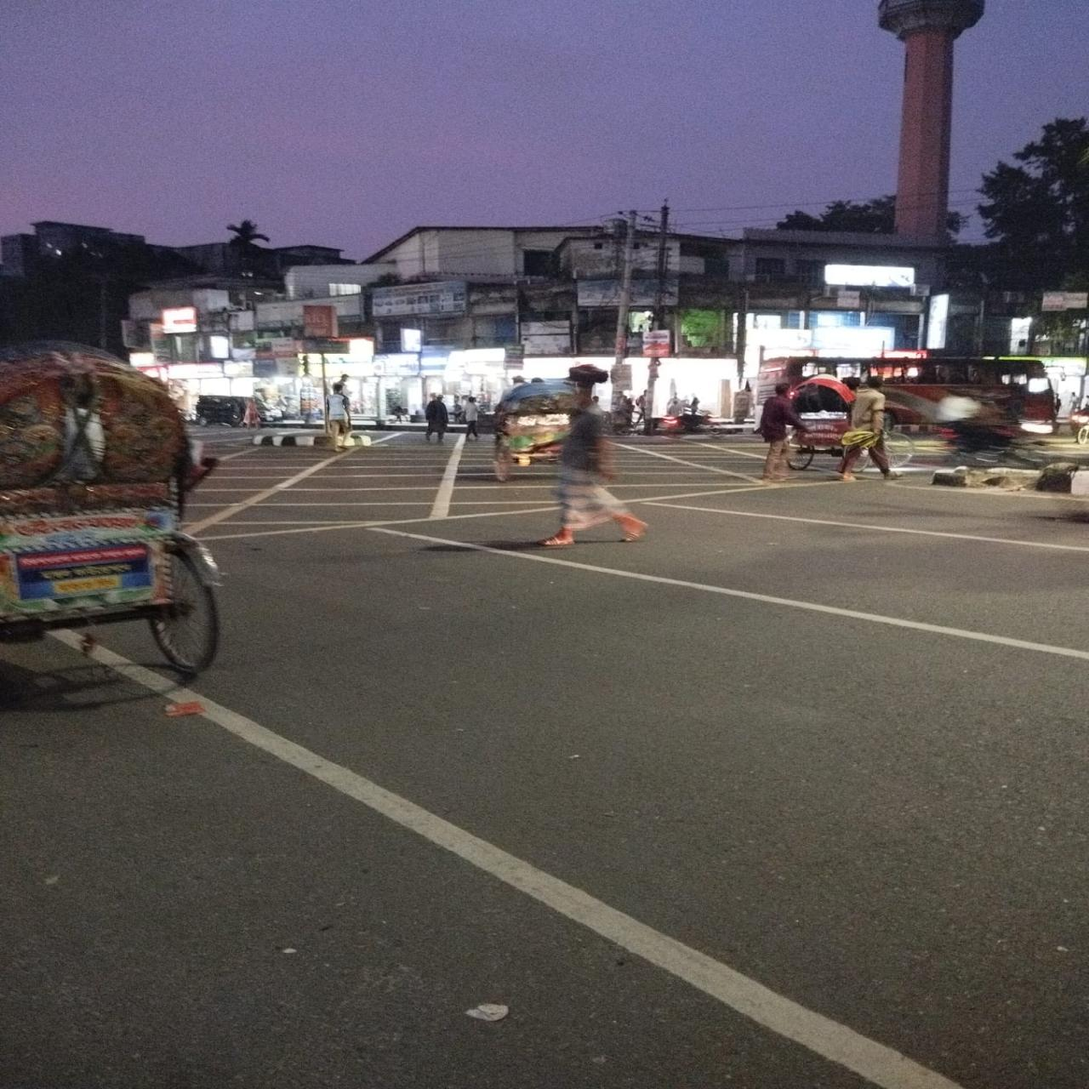person: (540, 385, 637, 553), (847, 376, 890, 480), (758, 380, 801, 483), (318, 380, 351, 457), (424, 391, 459, 442), (457, 392, 491, 438)
